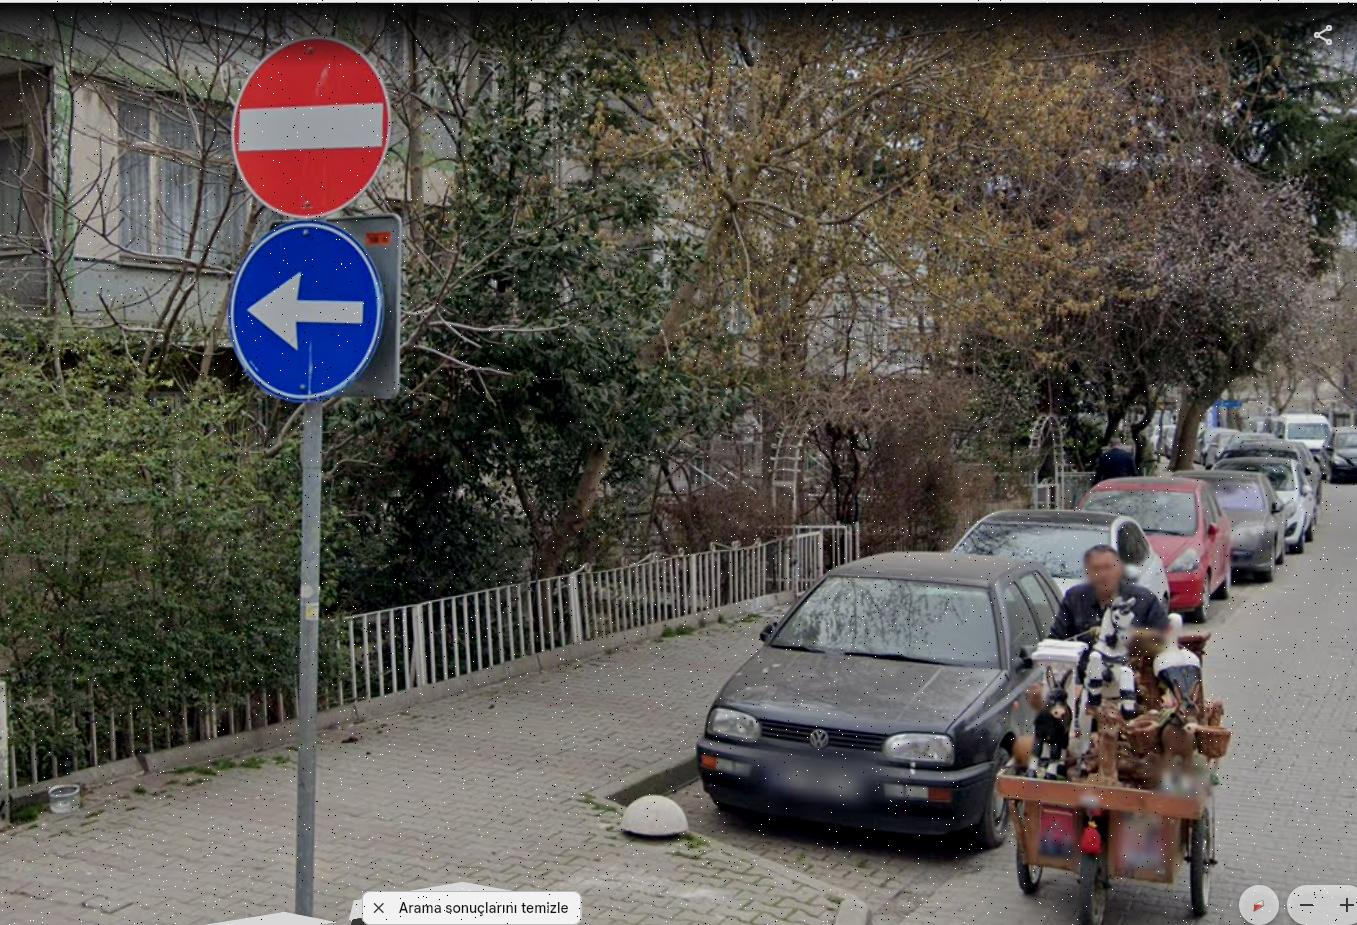turnleft: (230, 226, 383, 399)
